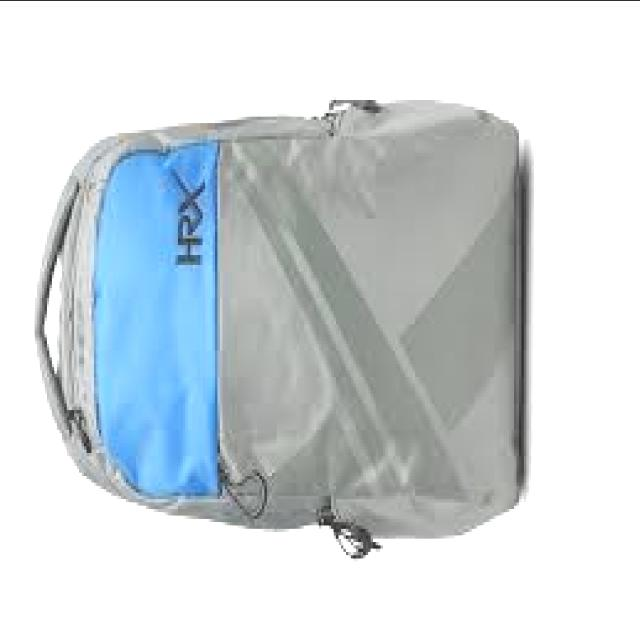backpack: (31, 97, 525, 562)
